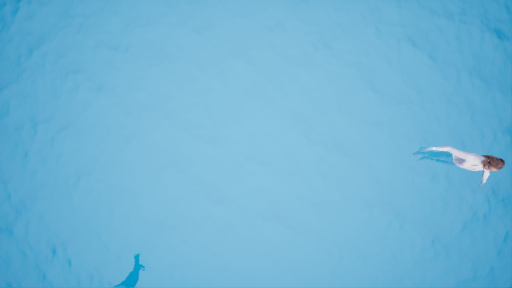person: (412, 139, 505, 187)
